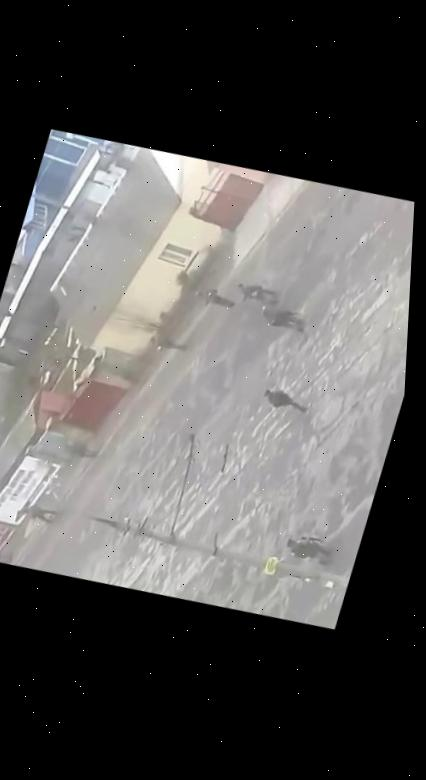person: (280, 529, 336, 569), (258, 383, 310, 417), (256, 302, 307, 335), (190, 282, 239, 314), (232, 278, 278, 309), (145, 332, 187, 357), (18, 501, 58, 527), (59, 438, 98, 462), (0, 544, 12, 566)
